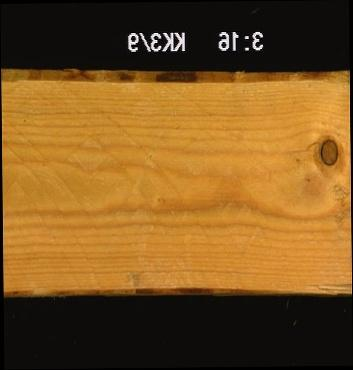dry_knot: (319, 137, 340, 166)
wave: (0, 65, 349, 89), (2, 275, 351, 298)
